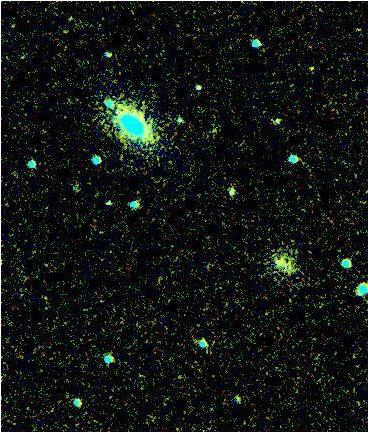star: (290, 52, 320, 82)
